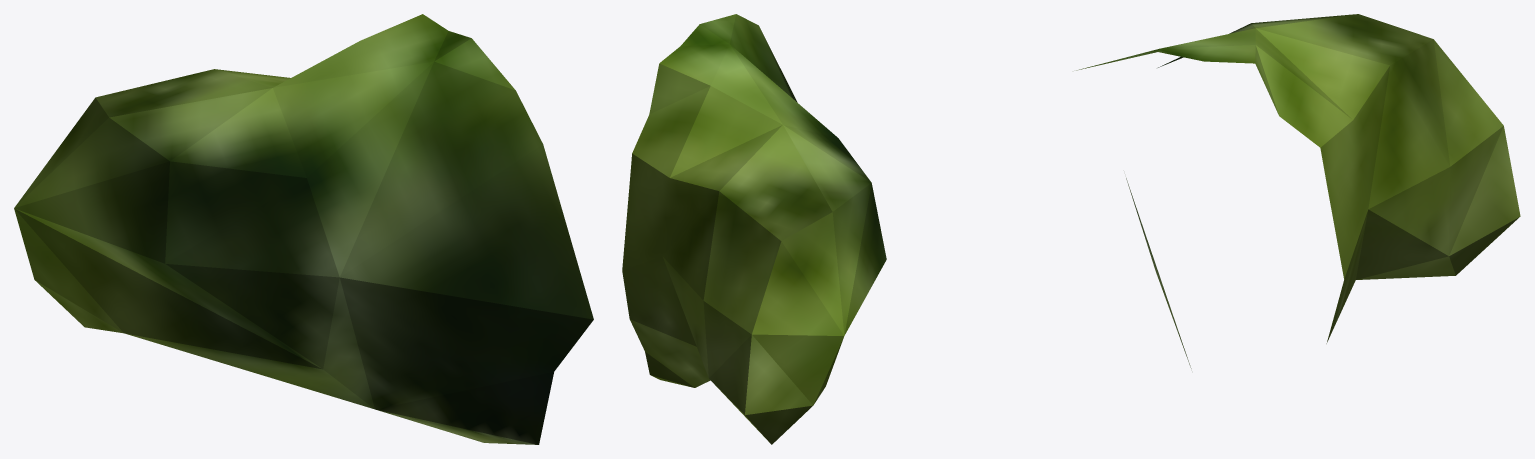
3 renders of one model, left to right at view 1: azimuth 30°, elevation 25°; view 2: azimuth 150°, elevation 25°; view 3: azimuth 270°, elevation 25°, orthographic. The views are drawn at different scales.
Bounding box in the file's own units: 0.1561 × 0.1866 × 0.2605.
Materials: 1 (1 with a texture image).
